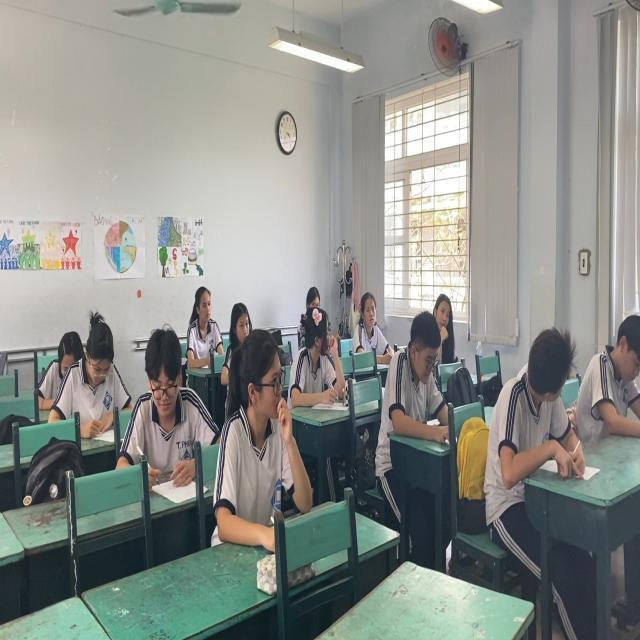cheating: (299, 298, 352, 416)
not_cheating: (490, 322, 579, 481), (233, 322, 297, 509), (136, 326, 198, 460), (52, 322, 126, 423), (585, 305, 640, 437), (390, 309, 452, 423), (178, 284, 225, 370), (348, 284, 394, 364), (429, 284, 466, 336), (223, 288, 254, 340)
